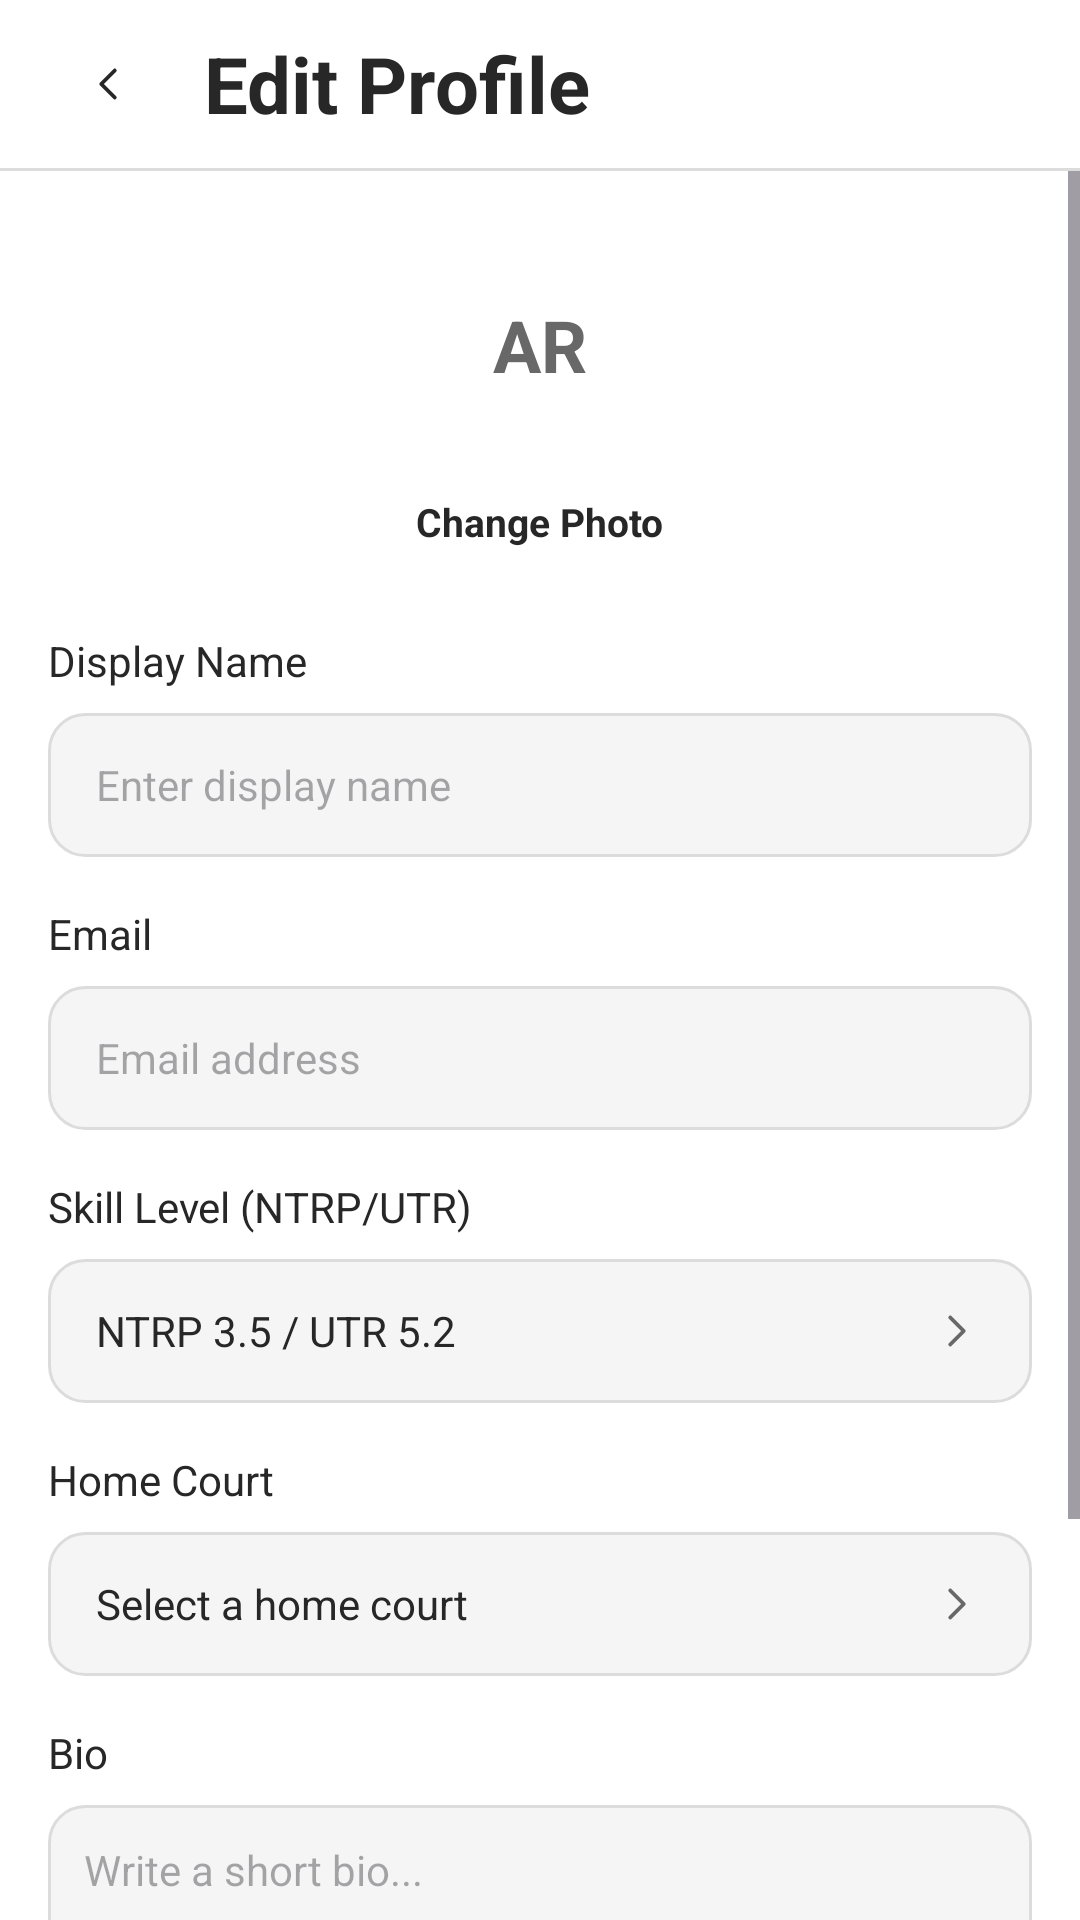

Icon bounding boxes for this 1080px×1920px phone screenshot, format box=[x1, y1, x2, y2]:
Back: box=[99, 68, 117, 100]
